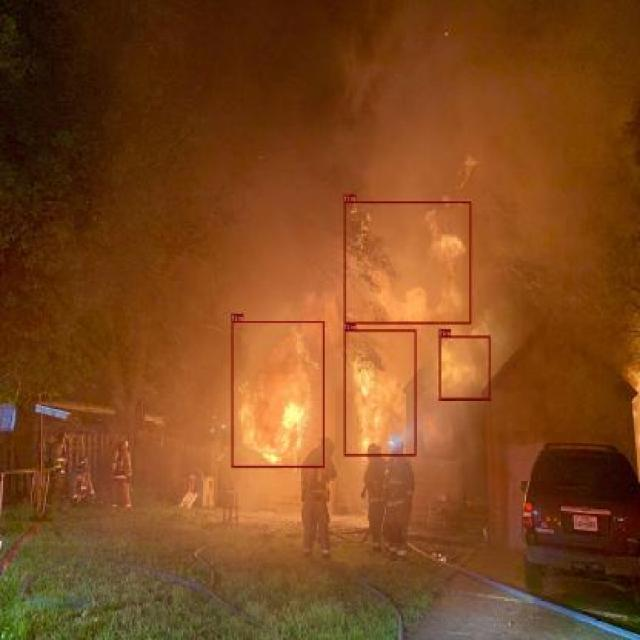Fire: (344, 201, 472, 324), (231, 320, 324, 468), (344, 328, 416, 456), (439, 335, 490, 400)
